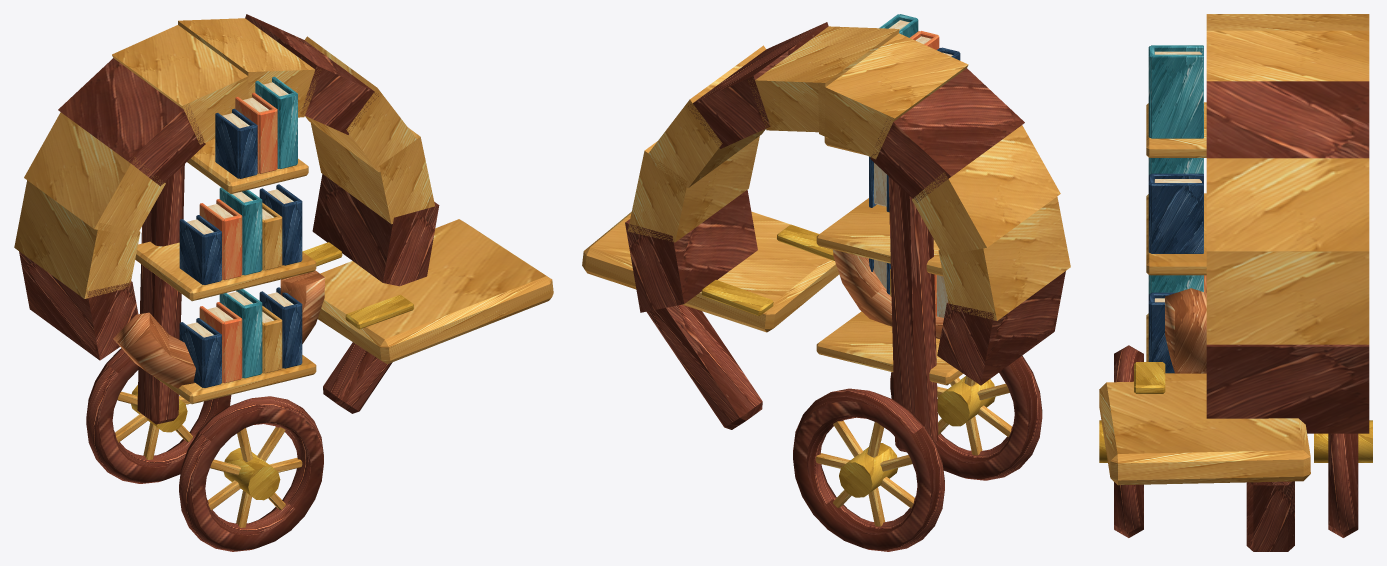
The model's file is revised-02-05.glb.
3 views of the same model, side by side, from view 1: azimuth 30°, elevation 25°; view 2: azimuth 150°, elevation 25°; view 3: azimuth 270°, elevation 25° (orthographic). The views are drawn at different scales.
Parts seen in each view (by area): view 1: snail_library; view 2: snail_library; view 3: snail_library.
Boxes of the visible parts, <box> form: snail_library: <box>14,14,553,551</box>; snail_library: <box>582,14,1070,551</box>; snail_library: <box>1099,14,1372,551</box>.
Size of the model in its own units: 1.66 by 1.64 by 0.7909.
2 materials, 2 textured.
